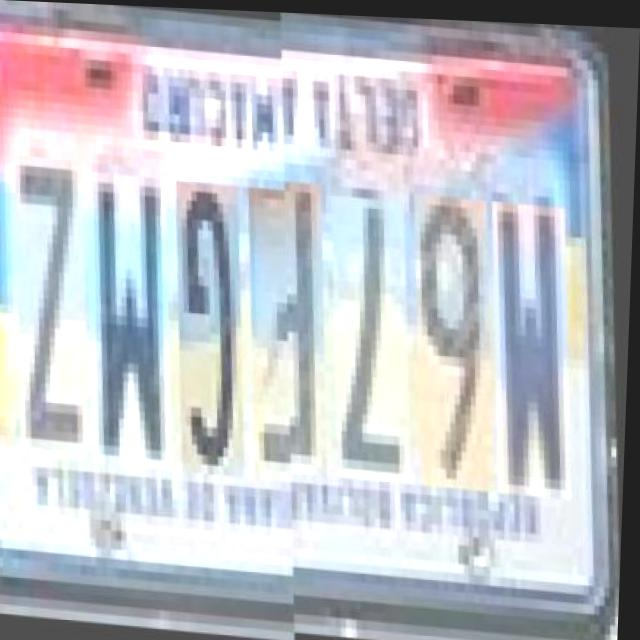6: (413, 201, 508, 499)
7: (330, 204, 425, 492)
f: (247, 189, 342, 485)
g: (173, 183, 259, 480)
m: (86, 176, 186, 474), (491, 208, 586, 504)
z: (13, 161, 103, 457)
